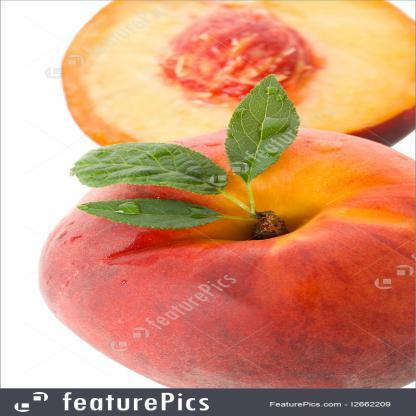Peach leaf: (55, 140, 235, 197), (228, 71, 302, 187), (74, 192, 222, 231)
